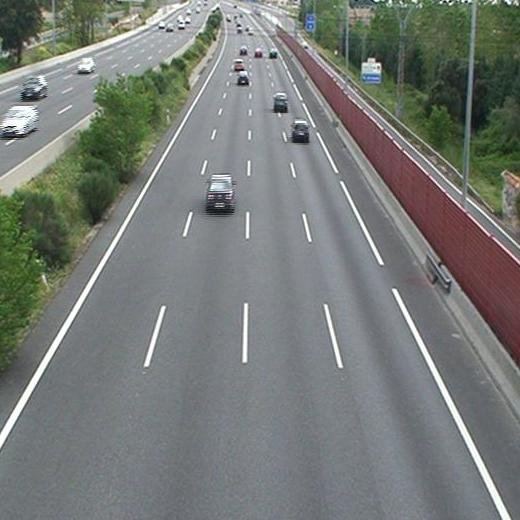car: (205, 174, 234, 208), (293, 120, 308, 139), (274, 92, 287, 109), (238, 72, 250, 84), (233, 59, 244, 71), (238, 46, 247, 54), (269, 49, 277, 57), (254, 49, 262, 57)
